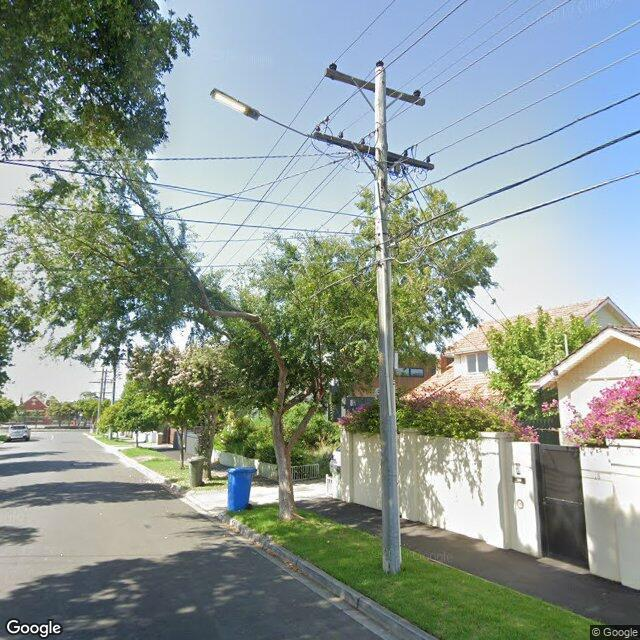HV-transmission: (328, 60, 421, 97)
crossarm: (314, 132, 434, 170), (325, 69, 425, 106)
streetlight: (209, 88, 314, 138)
timber-pole: (374, 67, 402, 574)
